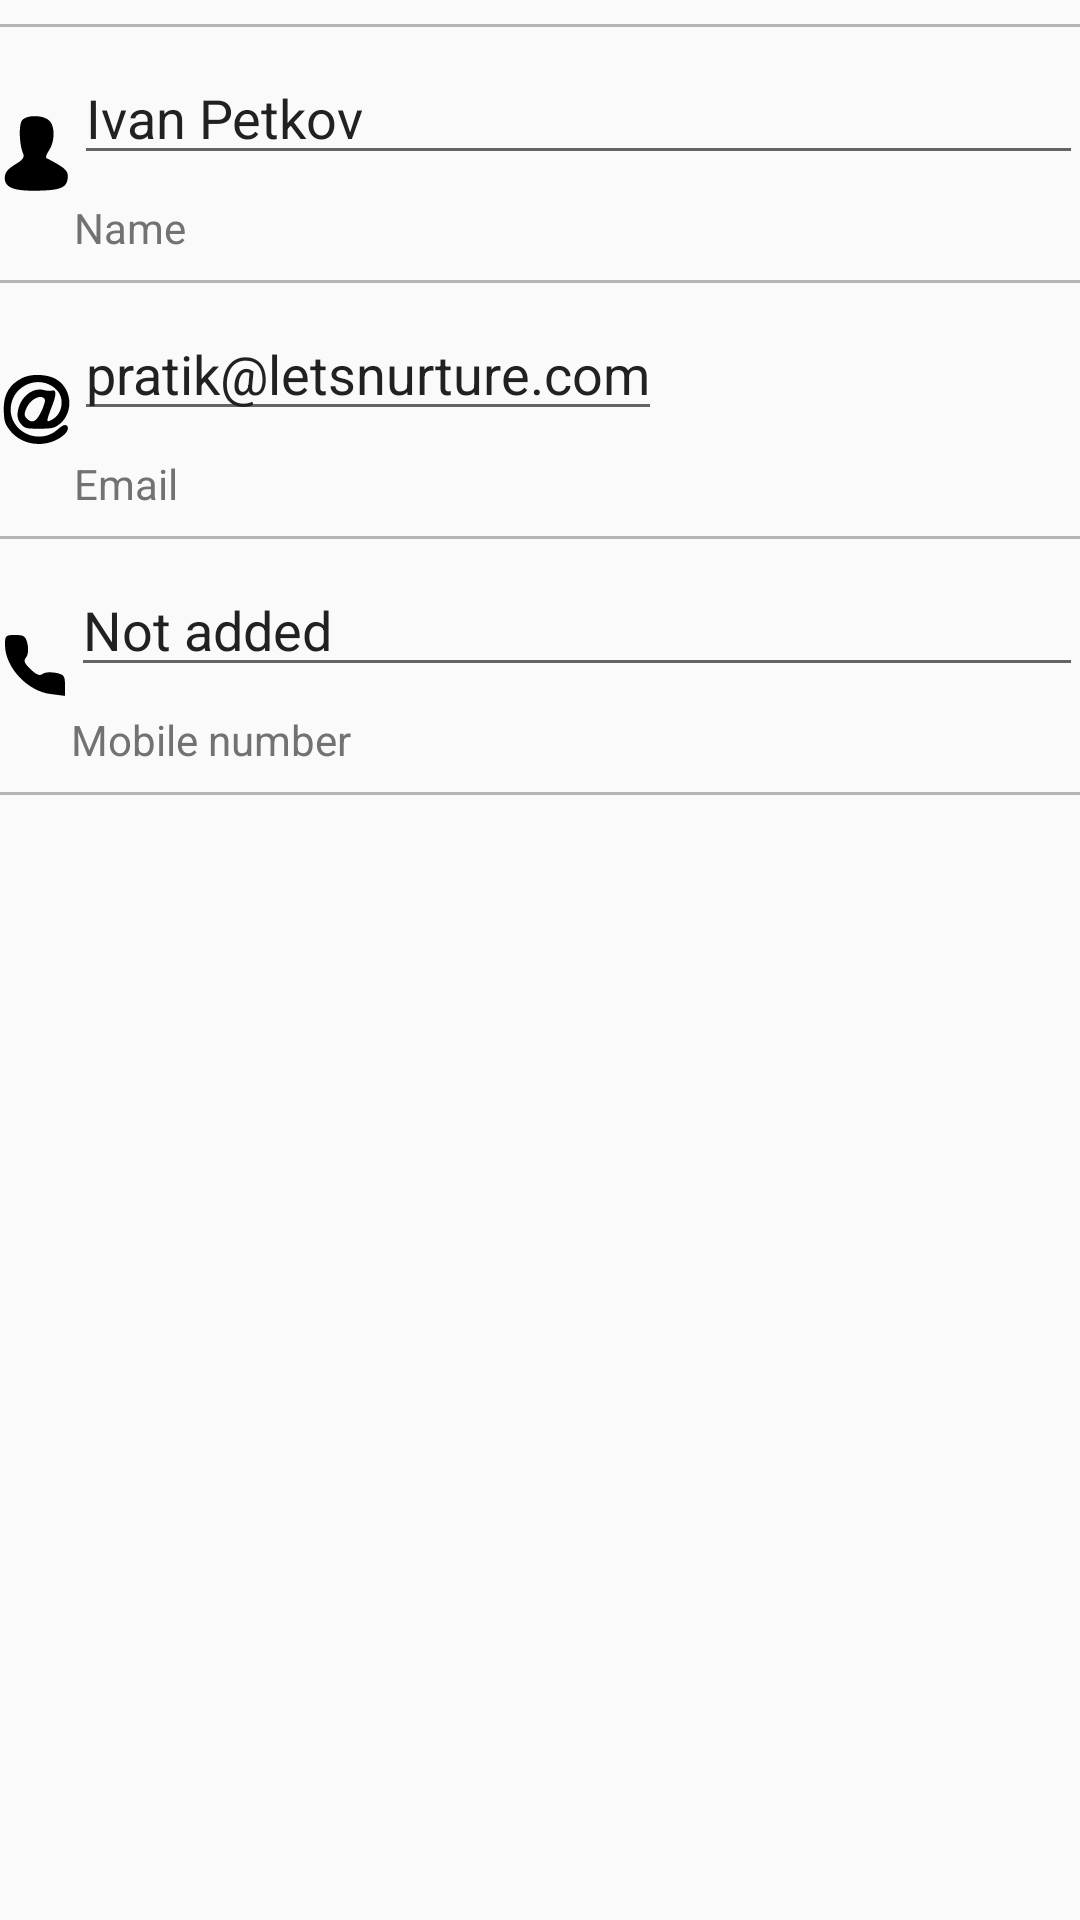

Screen size 1080x1920. Icon name, then its box in pixels as {"left": x1, "top": y1, "right": x2, "bottom": y2}:
phone: {"left": 5, "top": 635, "right": 65, "bottom": 696}
